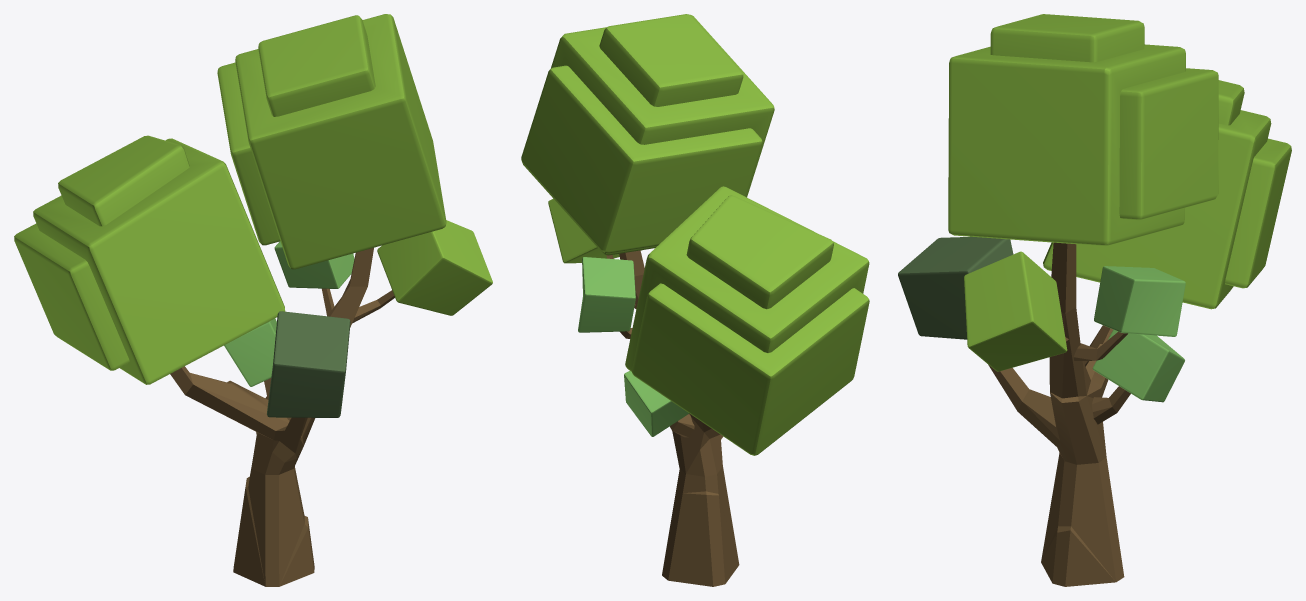
The model's file is model_polytope_tree07.fbx.
3 renders of one model, left to right at view 1: azimuth 30°, elevation 25°; view 2: azimuth 150°, elevation 25°; view 3: azimuth 270°, elevation 25°, orthographic. The views are drawn at different scales.
Parts seen in each view (by area): view 1: model_polytope_tree07; view 2: model_polytope_tree07; view 3: model_polytope_tree07.
Boxes of the visible parts, bbox=[...] form: model_polytope_tree07: bbox=[14, 14, 492, 586]; model_polytope_tree07: bbox=[521, 14, 869, 586]; model_polytope_tree07: bbox=[898, 14, 1291, 586].
Bounding box in the file's own units: 403 × 561 × 344.
